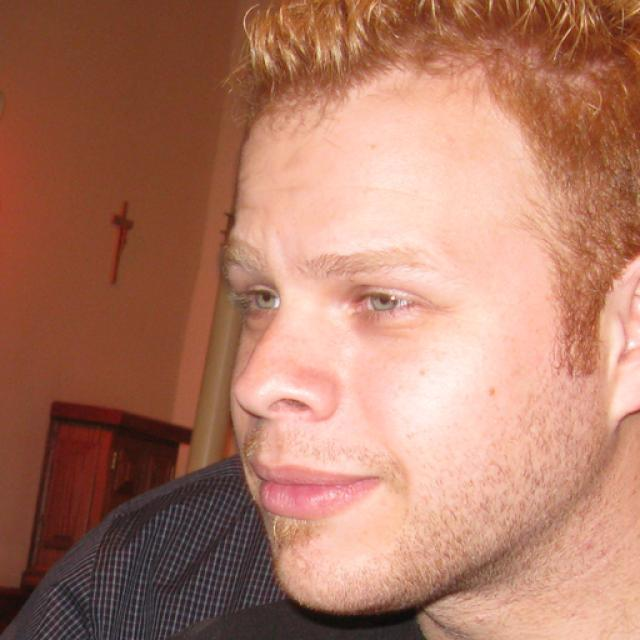content: (222, 75, 600, 620)
